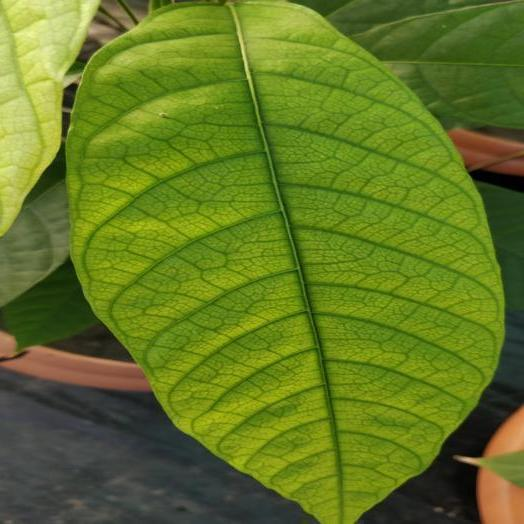Healthy Leaf: (292, 0, 523, 129)
Iron: (67, 0, 503, 523), (0, 0, 98, 234)
